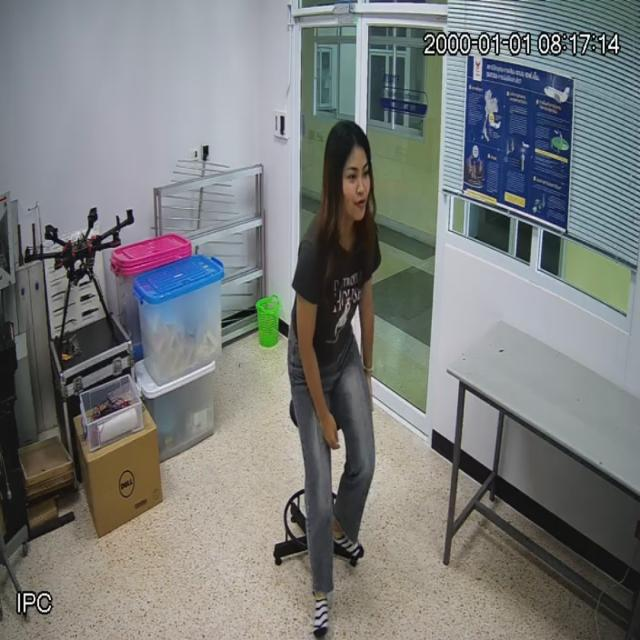normal: (286, 120, 382, 602)
